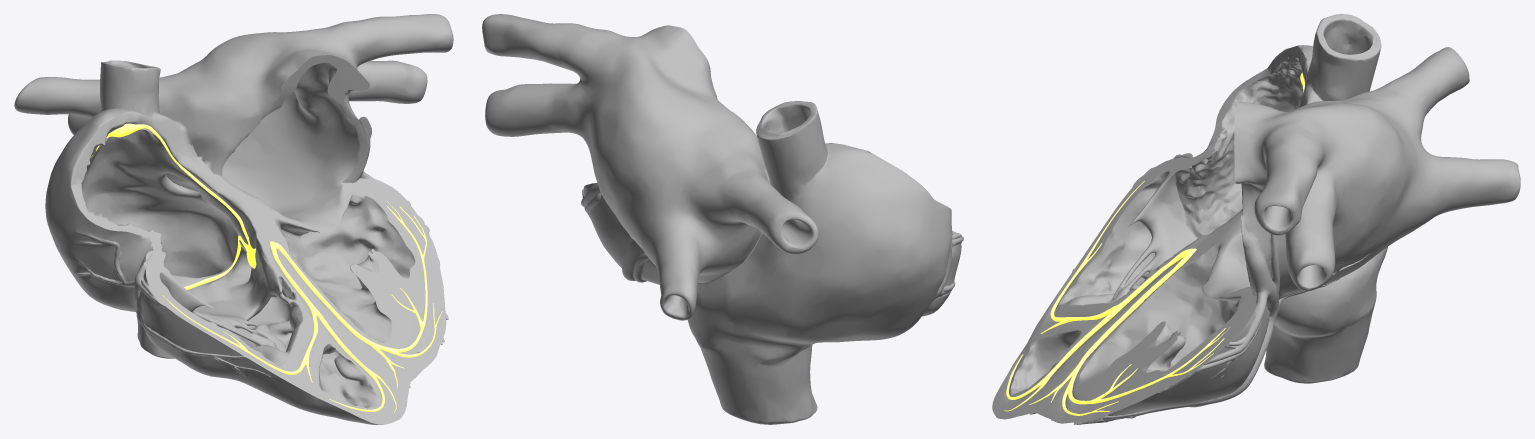
File: conductionpath.glb
The picture shows the model from 3 angles, left to right: view 1: azimuth 30°, elevation 25°; view 2: azimuth 150°, elevation 25°; view 3: azimuth 270°, elevation 25°; orthographic projection. The views are drawn at different scales.
Parts seen in each view (by area): view 1: Default2_Default2_0, Default1_Default1_0; view 2: Default2_Default2_0; view 3: Default2_Default2_0, Default1_Default1_0.
Part boxes in pixels (x1,y1,x2,y2): Default2_Default2_0: [14, 14, 453, 424]; Default1_Default1_0: [91, 123, 442, 412]; Default2_Default2_0: [482, 14, 963, 424]; Default2_Default2_0: [992, 14, 1520, 424]; Default1_Default1_0: [1004, 72, 1304, 415].
Size of the model in its own units: 4 by 2.78 by 4.04.
